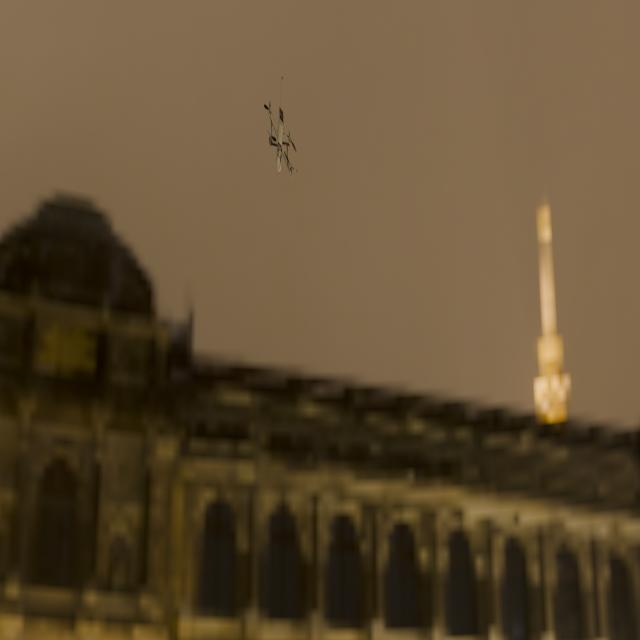drone: (264, 76, 297, 179)
